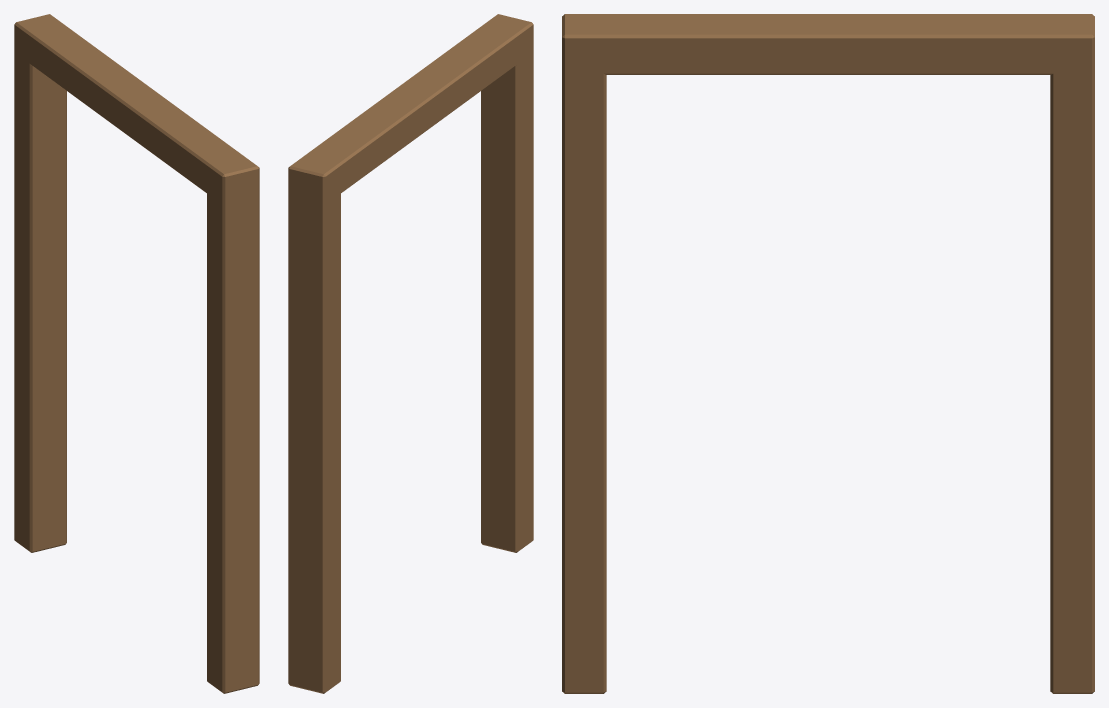
Rendered from SM_WL_DoorFrame130x200.fbx.
3 renders of one model, left to right at view 1: azimuth 30°, elevation 25°; view 2: azimuth 150°, elevation 25°; view 3: azimuth 270°, elevation 25°, orthographic. The views are drawn at different scales.
Parts seen in each view (by area): view 1: SM_WL_DoorFrame130x200; view 2: SM_WL_DoorFrame130x200; view 3: SM_WL_DoorFrame130x200.
Boxes of the visible parts, box(x1,y1,x2,y2) form: SM_WL_DoorFrame130x200: box(14, 14, 259, 693); SM_WL_DoorFrame130x200: box(288, 14, 533, 693); SM_WL_DoorFrame130x200: box(562, 14, 1094, 693).
Size of the model in its own units: 1.56 by 0.16 by 2.13.
